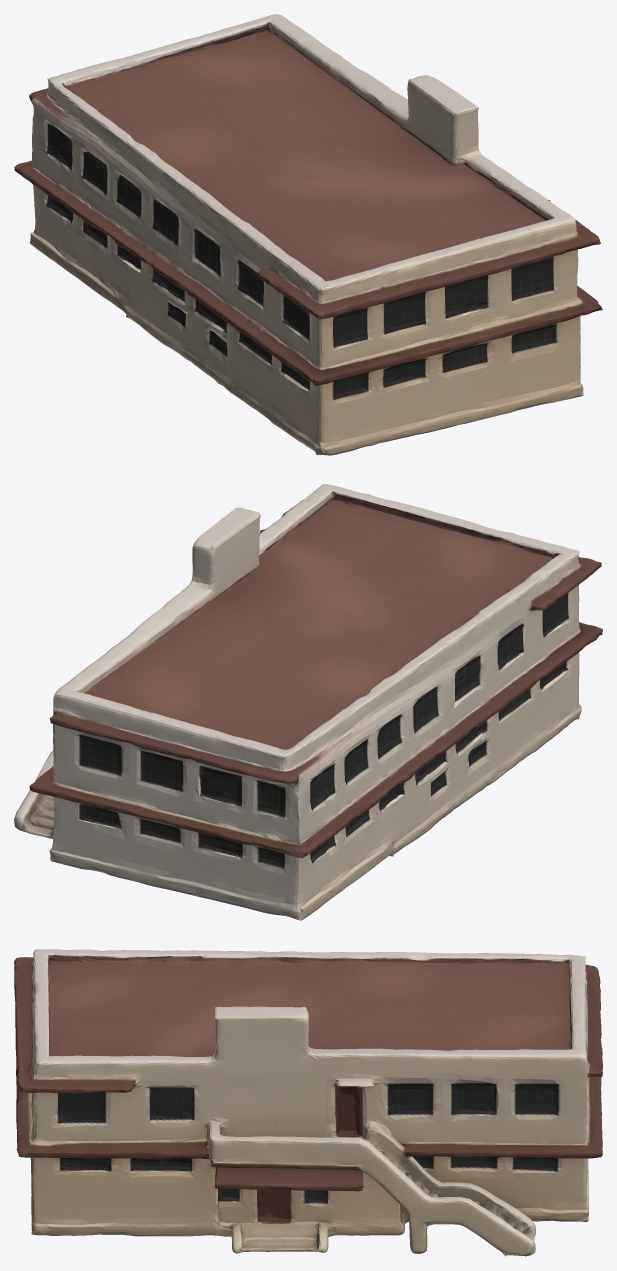
Rendered from Gym.glb.
3 views of the same model, one above another, from view 1: azimuth 30°, elevation 25°; view 2: azimuth 150°, elevation 25°; view 3: azimuth 270°, elevation 25° (orthographic). The views are drawn at different scales.
Visible parts, largest first — view 1: tripo_node_c30379bb-aa5f-470b-af51-838ec7d62cac; view 2: tripo_node_c30379bb-aa5f-470b-af51-838ec7d62cac; view 3: tripo_node_c30379bb-aa5f-470b-af51-838ec7d62cac.
Part boxes in pixels (x1,y1,x2,y2): tripo_node_c30379bb-aa5f-470b-af51-838ec7d62cac: (14,14,602,455); tripo_node_c30379bb-aa5f-470b-af51-838ec7d62cac: (14,484,602,920); tripo_node_c30379bb-aa5f-470b-af51-838ec7d62cac: (14,949,602,1256).
Bounding box in the file's own units: 0.6363 × 0.4019 × 0.9994.
1 material, 1 textured.
